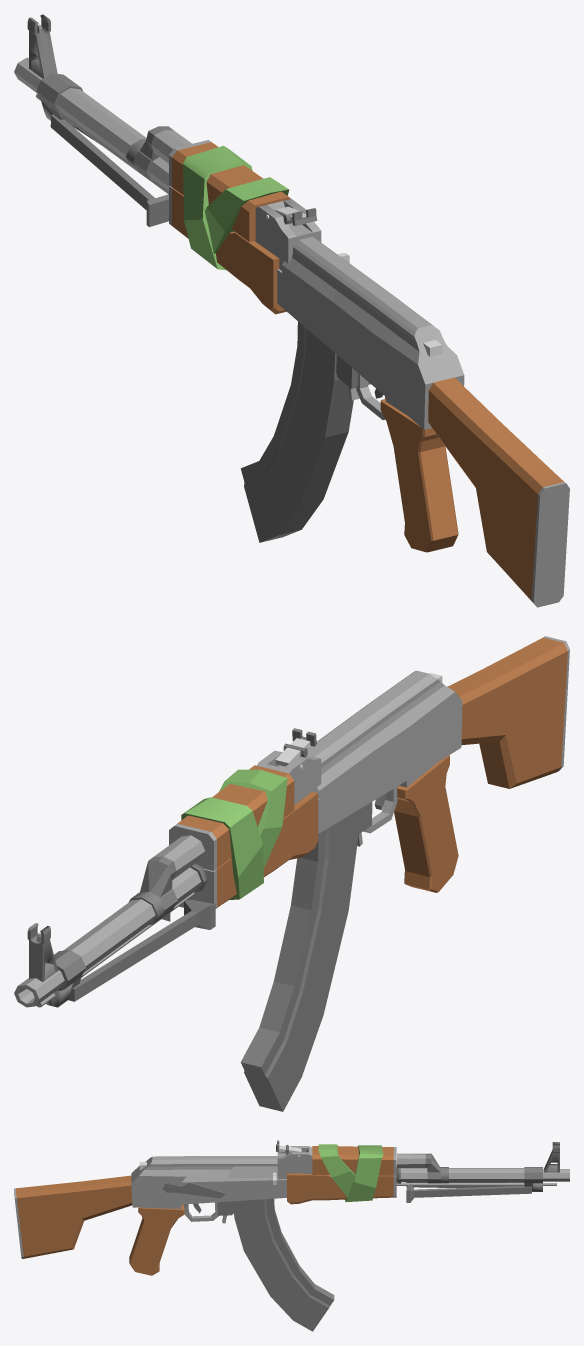
3 views of the same model, one above another, from view 1: azimuth 30°, elevation 25°; view 2: azimuth 150°, elevation 25°; view 3: azimuth 270°, elevation 25° (orthographic). The views are drawn at different scales.
Parts seen in each view (by area): view 1: Stock, Receiver, Magazine, PistolGrip, Barrel, handguard, Tape.003, UpperHandguard, Cube.001, ReceiverPart, Tape.004, Barrel.001; view 2: Magazine, Receiver, Stock, Barrel, PistolGrip, handguard, Tape.003, UpperHandguard, Cube.001, Tape.004, ReceiverPart, Barrel.001 (+2 smaller); view 3: Stock, Magazine, Receiver, Barrel, PistolGrip, handguard, Tape.003, UpperHandguard, Cube.002, Tape.004, ReceiverPart, Bolt (+5 smaller).
Boxes of the visible parts, x1=… form: Stock: x1=428, y1=377, x2=569, y2=607; Receiver: x1=277, y1=236, x2=464, y2=429; Magazine: x1=240, y1=321, x2=353, y2=542; PistolGrip: x1=380, y1=397, x2=458, y2=552; Barrel: x1=14, y1=57, x2=191, y2=191; handguard: x1=169, y1=186, x2=286, y2=314; Tape.003: x1=183, y1=145, x2=252, y2=270; UpperHandguard: x1=169, y1=140, x2=290, y2=241; Cube.001: x1=50, y1=114, x2=168, y2=227; ReceiverPart: x1=255, y1=199, x2=321, y2=270; Tape.004: x1=205, y1=177, x2=289, y2=253; Barrel.001: x1=27, y1=14, x2=57, y2=78; Magazine: x1=240, y1=810, x2=358, y2=1111; Receiver: x1=307, y1=670, x2=462, y2=833; Stock: x1=447, y1=636, x2=569, y2=788; Barrel: x1=14, y1=835, x2=207, y2=1007; PistolGrip: x1=394, y1=755, x2=458, y2=892; handguard: x1=179, y1=792, x2=318, y2=908; Tape.003: x1=181, y1=797, x2=263, y2=899; UpperHandguard: x1=169, y1=765, x2=294, y2=870; Cube.001: x1=68, y1=900, x2=215, y2=1001; Tape.004: x1=219, y1=769, x2=287, y2=868; ReceiverPart: x1=257, y1=750, x2=321, y2=804; Barrel.001: x1=27, y1=923, x2=58, y2=981; Stock: x1=14, y1=1175, x2=132, y2=1258; Magazine: x1=233, y1=1198, x2=334, y2=1331; Receiver: x1=131, y1=1156, x2=286, y2=1207; Barrel: x1=396, y1=1153, x2=569, y2=1191; PistolGrip: x1=129, y1=1204, x2=184, y2=1275; handguard: x1=287, y1=1173, x2=396, y2=1204; Tape.003: x1=345, y1=1145, x2=383, y2=1202; UpperHandguard: x1=312, y1=1146, x2=396, y2=1175; Cube.002: x1=406, y1=1184, x2=531, y2=1202; Tape.004: x1=318, y1=1144, x2=355, y2=1197; ReceiverPart: x1=277, y1=1146, x2=312, y2=1179; Bolt: x1=227, y1=1166, x2=277, y2=1184.
Size of the model in its own units: 42.49 by 195 by 528.
